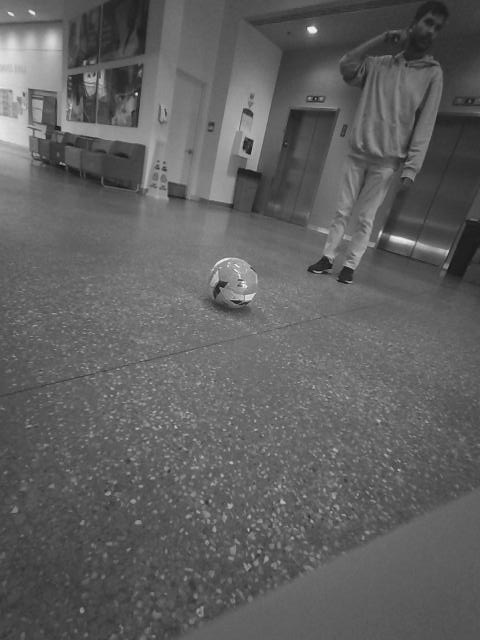ball: (205, 257, 263, 312)
